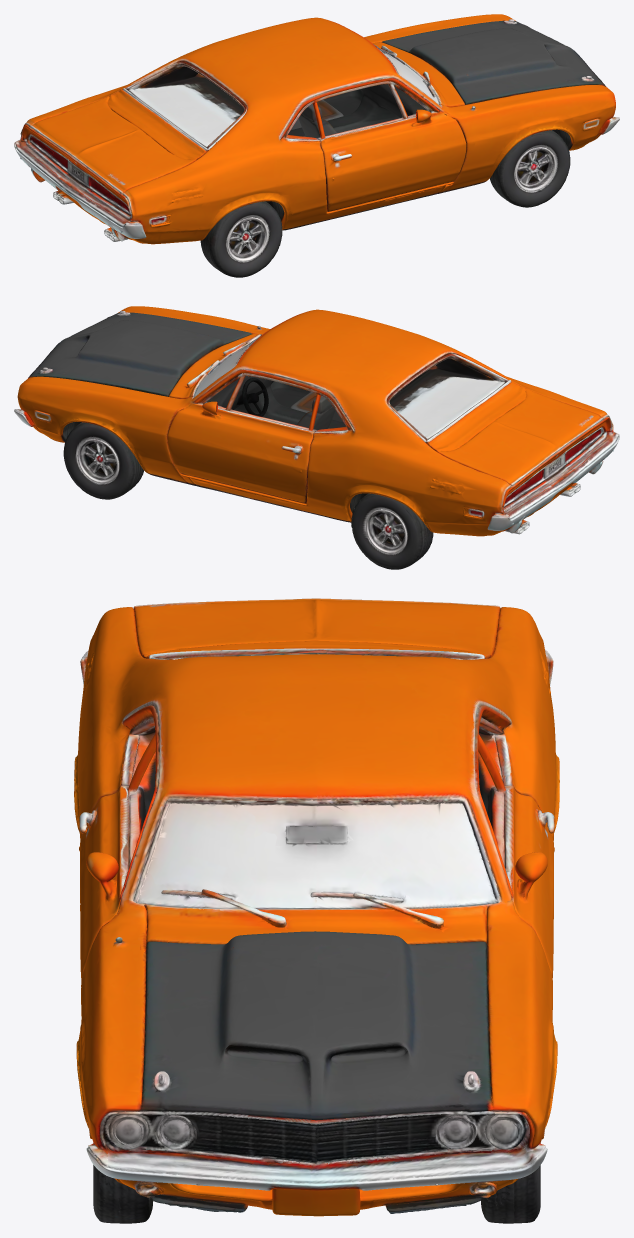
The model's file is orange_coupe.glb.
3 renders of one model, top to bottom at view 1: azimuth 30°, elevation 25°; view 2: azimuth 150°, elevation 25°; view 3: azimuth 270°, elevation 25°, orthographic. The views are drawn at different scales.
Visible parts, largest first — view 1: tripo_node_78764837-1d1f-413a-9bb7-a89f17a49e67; view 2: tripo_node_78764837-1d1f-413a-9bb7-a89f17a49e67; view 3: tripo_node_78764837-1d1f-413a-9bb7-a89f17a49e67.
Boxes of the visible parts, bbox=[...] form: tripo_node_78764837-1d1f-413a-9bb7-a89f17a49e67: bbox=[14, 14, 619, 277]; tripo_node_78764837-1d1f-413a-9bb7-a89f17a49e67: bbox=[14, 306, 619, 569]; tripo_node_78764837-1d1f-413a-9bb7-a89f17a49e67: bbox=[74, 598, 559, 1223].
Size of the model in its own units: 0.9803 by 0.2955 by 0.4036.
Materials: 1 (1 with a texture image).
